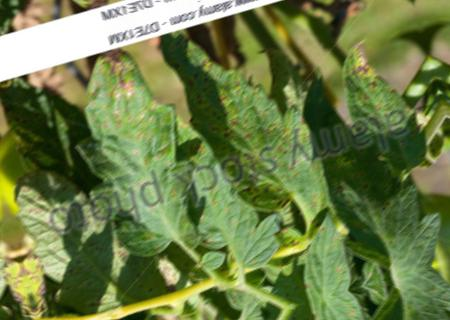Tomato Septoria leaf spot: (158, 0, 346, 259), (45, 33, 212, 277), (3, 142, 176, 320), (328, 19, 441, 189), (166, 121, 282, 285)
